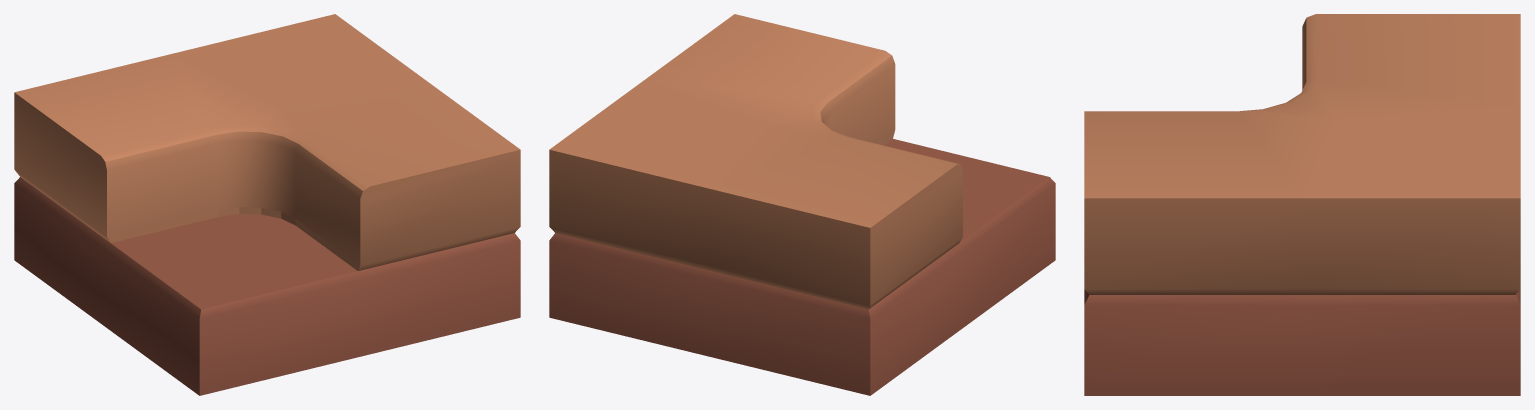
The model's file is square_rock_waterInnerCorner_empty.glb.
3 renders of one model, left to right at view 1: azimuth 30°, elevation 25°; view 2: azimuth 150°, elevation 25°; view 3: azimuth 270°, elevation 25°, orthographic. The views are drawn at different scales.
Visible parts, largest first — view 1: square_rock_waterInnerCorner_empty; view 2: square_rock_waterInnerCorner_empty; view 3: square_rock_waterInnerCorner_empty.
Part boxes in pixels (x1,y1,x2,y2): square_rock_waterInnerCorner_empty: [14, 14, 520, 395]; square_rock_waterInnerCorner_empty: [549, 14, 1055, 395]; square_rock_waterInnerCorner_empty: [1084, 14, 1520, 395].
Size of the model in its own units: 2 by 1 by 2.
